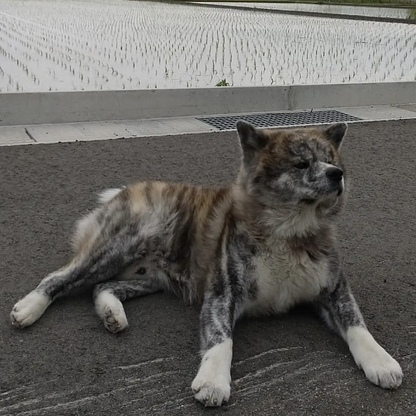akita: (5, 115, 416, 411)
